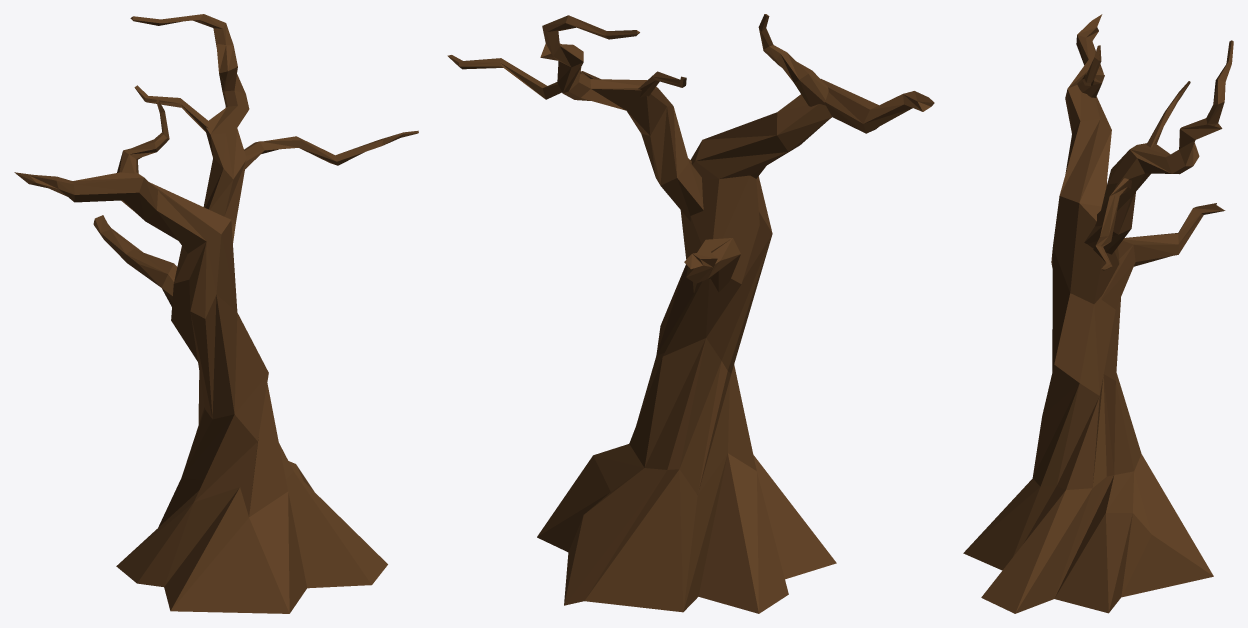
Rendered from SM_Tree_Juniper_Dead_A.fbx.
3 views of the same model, side by side, from view 1: azimuth 30°, elevation 25°; view 2: azimuth 150°, elevation 25°; view 3: azimuth 270°, elevation 25° (orthographic). The views are drawn at different scales.
Parts seen in each view (by area): view 1: tree-juniper-dead-a; view 2: tree-juniper-dead-a; view 3: tree-juniper-dead-a.
Boxes of the visible parts, left/top/right/bottom form: tree-juniper-dead-a: left=14, top=14, right=418, bottom=613; tree-juniper-dead-a: left=447, top=14, right=934, bottom=613; tree-juniper-dead-a: left=963, top=14, right=1233, bottom=613.
Size of the model in its own units: 2.39 by 2.84 by 1.38.
